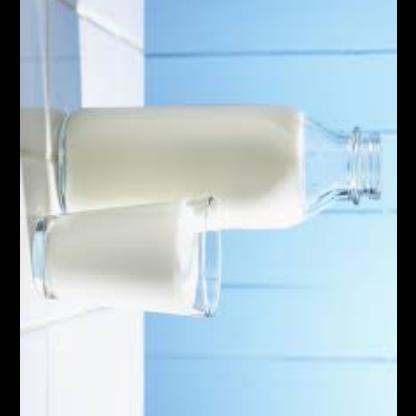milk: (44, 203, 200, 317)
